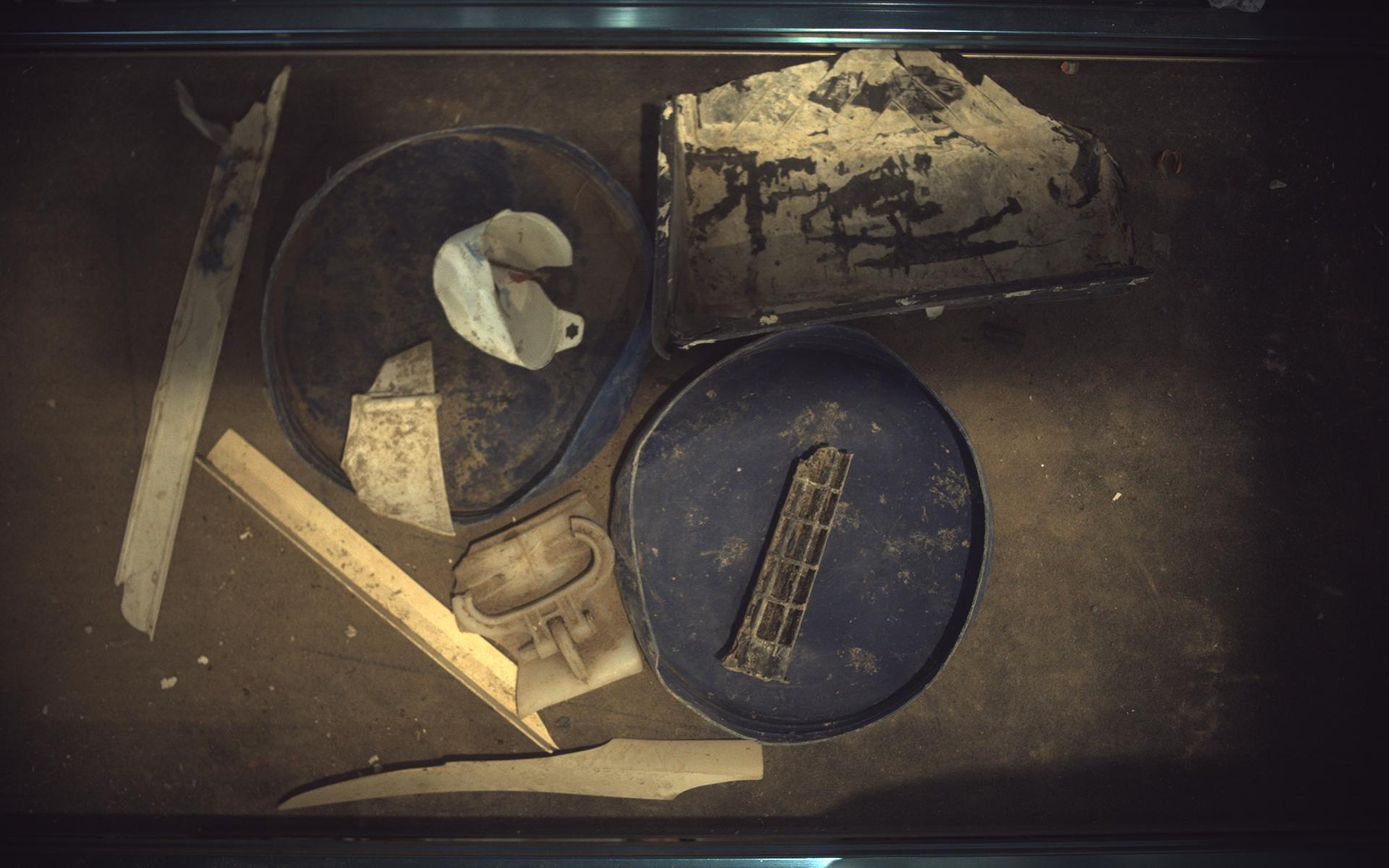plastic: (613, 325, 993, 744), (262, 125, 652, 524), (655, 48, 1151, 352), (195, 429, 557, 754), (114, 66, 289, 639), (452, 493, 642, 718), (279, 740, 765, 812), (724, 446, 854, 682), (433, 208, 585, 370), (341, 341, 454, 536)
